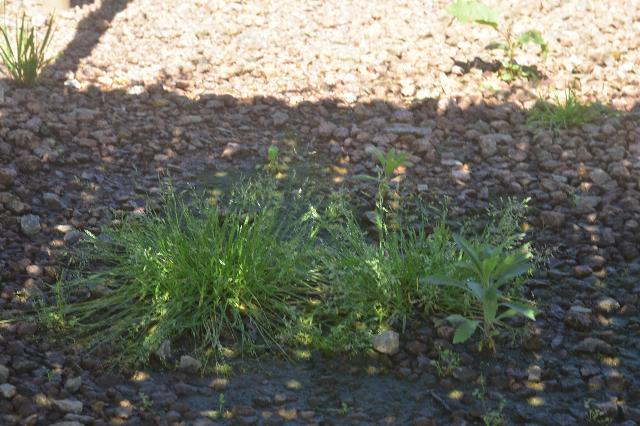MalezaMontesDelPlata: (32, 138, 338, 362), (341, 153, 540, 334), (442, 0, 552, 85), (521, 78, 625, 133), (0, 3, 63, 81)
